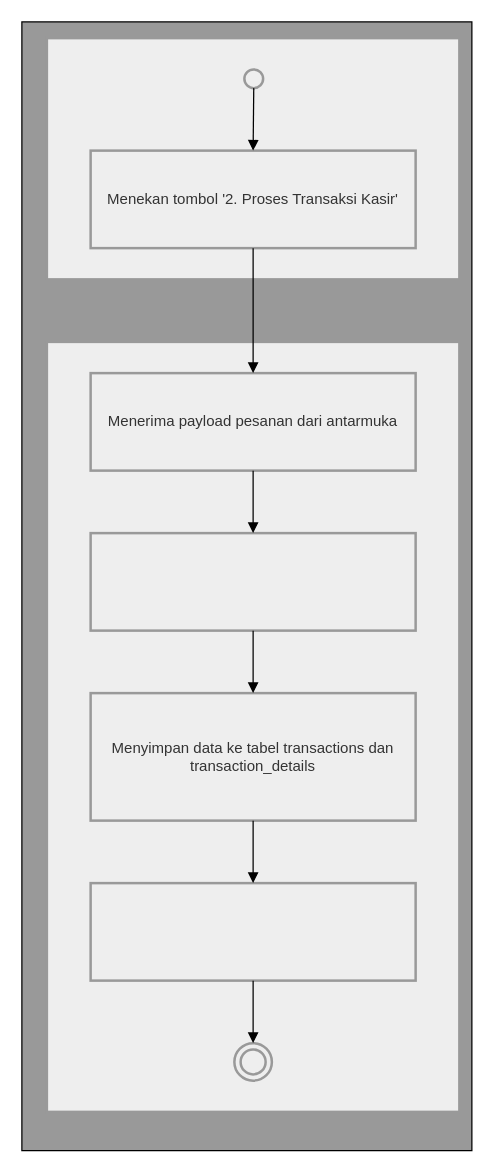
Image size: 494x1173. Some labels were removed from this diagram. The shapes that lost their labels are listed below. From the top down, each one's box as (x1, y1, x2, y2) in pixels, then its label:
(89, 531, 416, 631): Mengkalkulasi subtotal berdasarkan harga produk
(89, 881, 416, 981): Menampilkan output log JSON / struk transaksi
